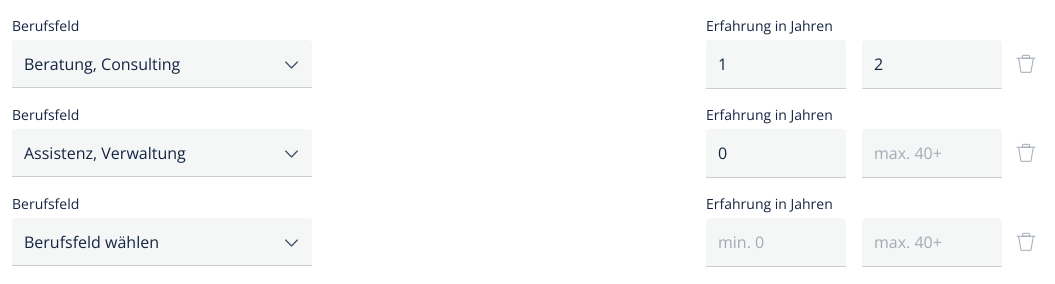
Test: Applicant Filter - Experience › should render the experience filter with preselected job field and months
Expected: the number of elements with class "ApplicantFilterExperienceItem" is 3, [12,16,1038,89]; [12,105,1038,178]; [12,194,1038,267]
Expected: the button "Beratung, Consulting" is shown, [12,40,312,88]
delete second entry and check if entries are still correct
Click the 2nd button with class "DeleteEntry".
click(1026, 152)  # box [1014,128,1038,177]
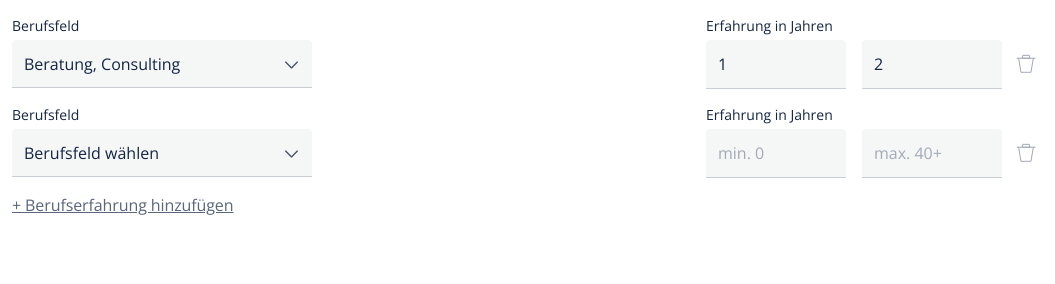
Expected: the button "Beratung, Consulting" is shown, [12,40,312,88]
Expected: the number of elements with class "ApplicantFilterExperienceItem" is 2, [12,16,1038,89]; [12,105,1038,178]
Expected: the button with class "AddExperience" is shown, [12,193,234,217]
